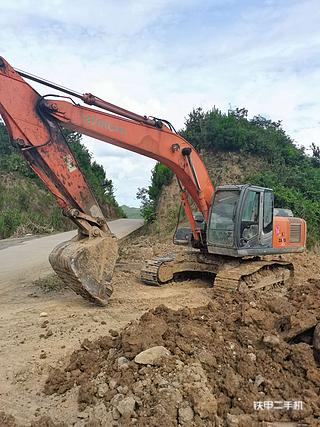excavator: (1, 51, 309, 311)
